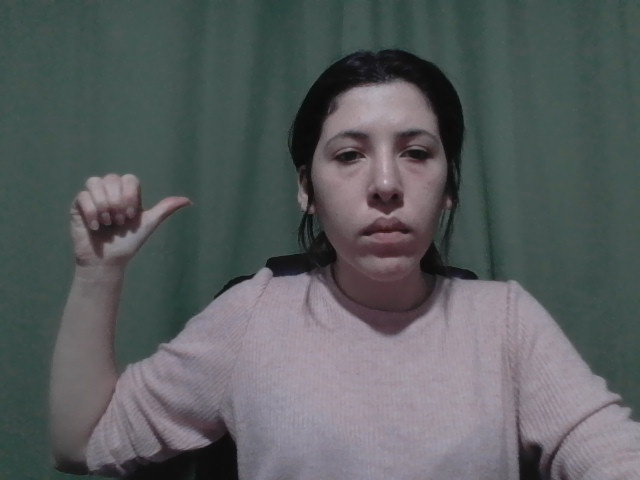CHAU: (60, 169, 195, 278)
